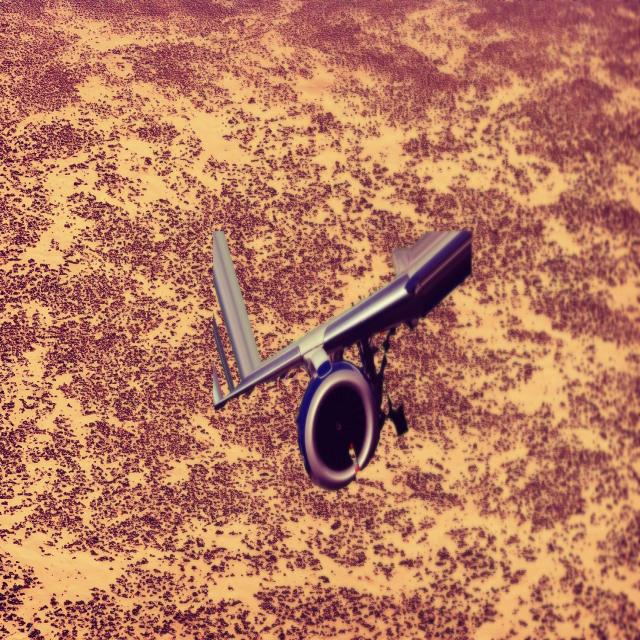airplane: (210, 225, 472, 490)
